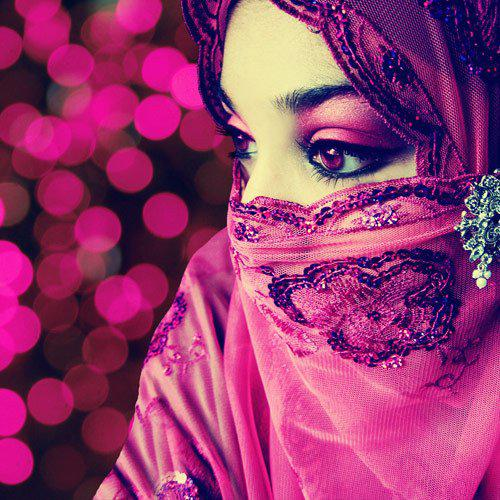OK: (222, 100, 500, 379)
